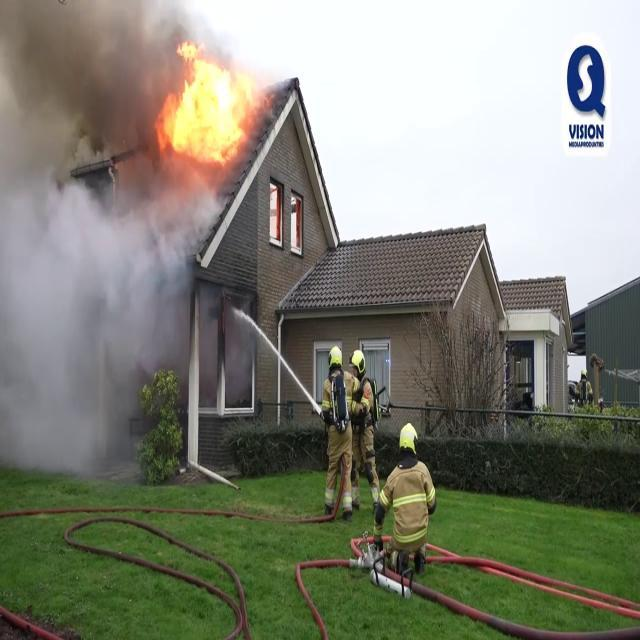Fire: (158, 31, 258, 165)
Smoke: (0, 0, 210, 452)
